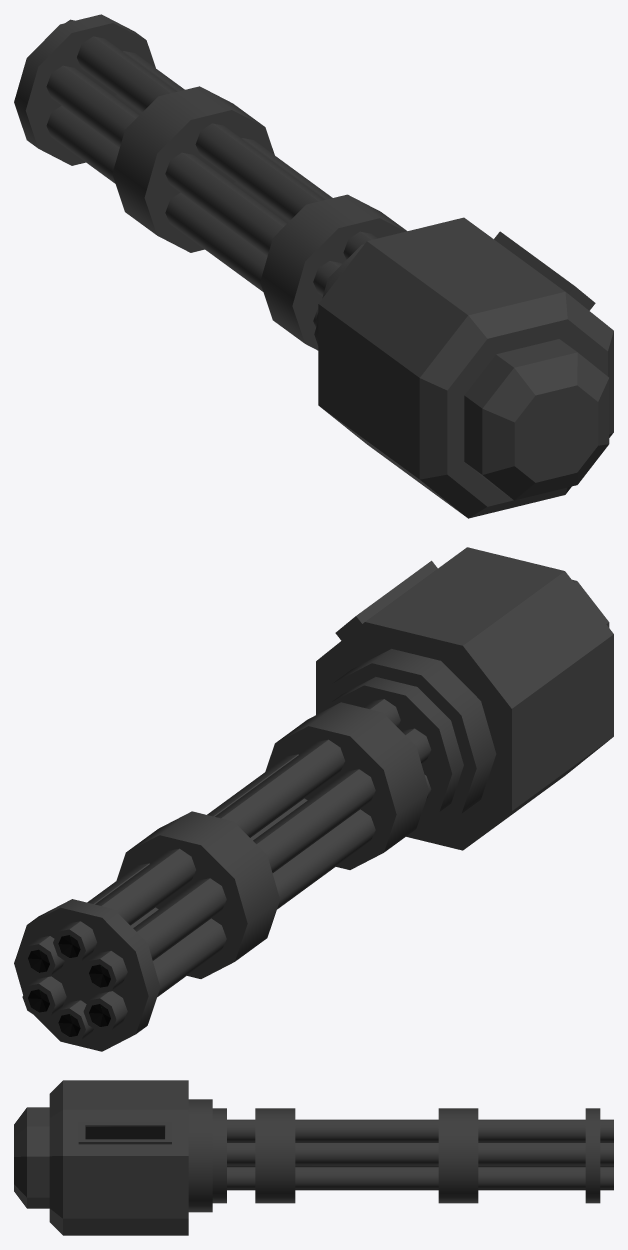
The model's file is Gatling Gun.fbx.
The picture shows the model from 3 angles, top to bottom: view 1: azimuth 30°, elevation 25°; view 2: azimuth 150°, elevation 25°; view 3: azimuth 270°, elevation 25°; orthographic projection. The views are drawn at different scales.
Visible parts, largest first — view 1: Body, Barrel; view 2: Barrel, Body; view 3: Barrel, Body.
Part boxes in pixels (box(x1,y1,x2,y2)): Body: box(314, 217, 613, 518); Barrel: box(14, 14, 407, 350); Barrel: box(14, 677, 463, 1051); Body: box(316, 547, 613, 850); Barrel: box(212, 1108, 613, 1203); Body: box(14, 1080, 212, 1235).
Size of the model in its own units: 1.08 by 1.08 by 4.67.
